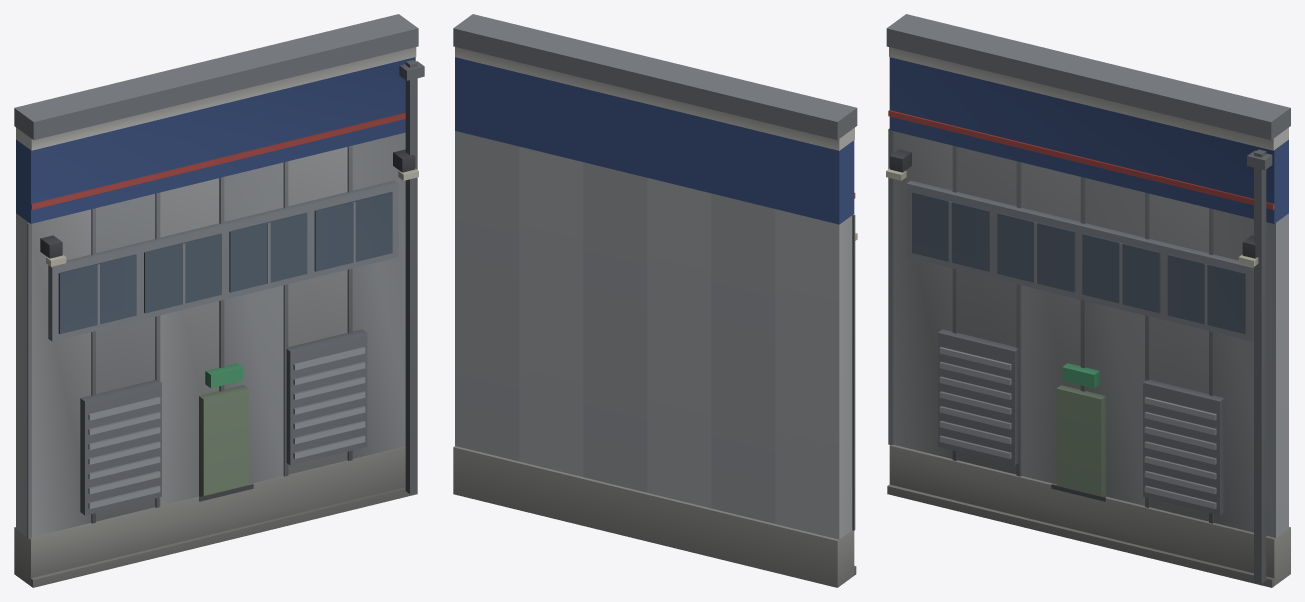
File: sback_wall.glb
The picture shows the model from 3 angles, left to right: view 1: azimuth 30°, elevation 25°; view 2: azimuth 150°, elevation 25°; view 3: azimuth 330°, elevation 25°; orthographic projection.
Parts seen in each view (by area): view 1: sback_wall; view 2: sback_wall; view 3: sback_wall.
Part boxes in pixels (left/top/right/bottom): sback_wall: left=14, top=14, right=424, bottom=587; sback_wall: left=453, top=14, right=857, bottom=587; sback_wall: left=886, top=14, right=1290, bottom=587.
Size of the model in its own units: 6.03 by 6.95 by 0.77.
